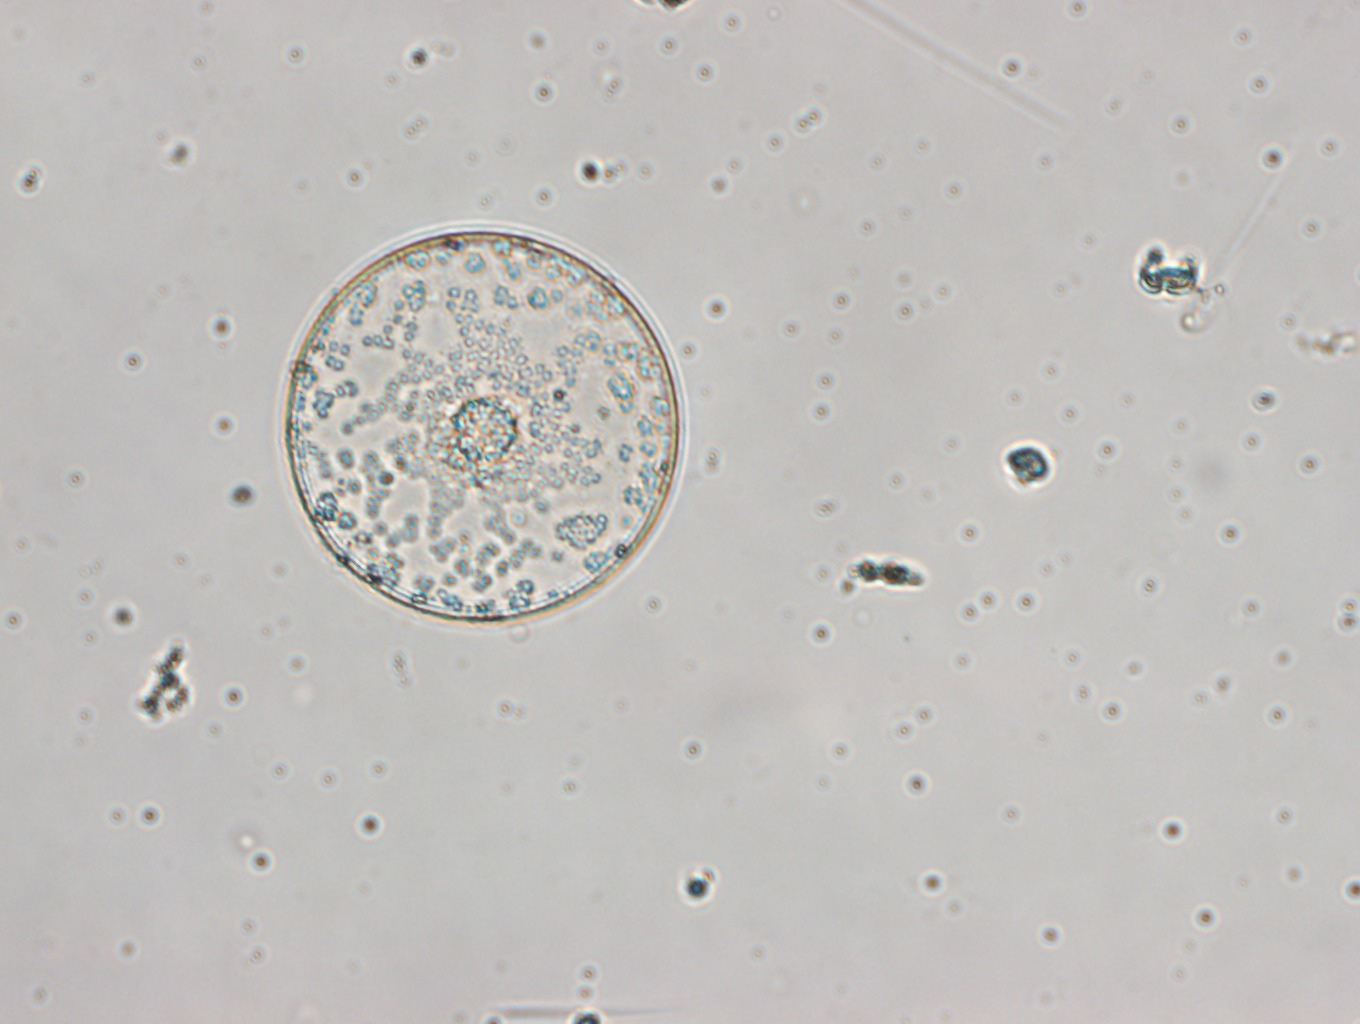coscinodiscus: (281, 222, 681, 626)
